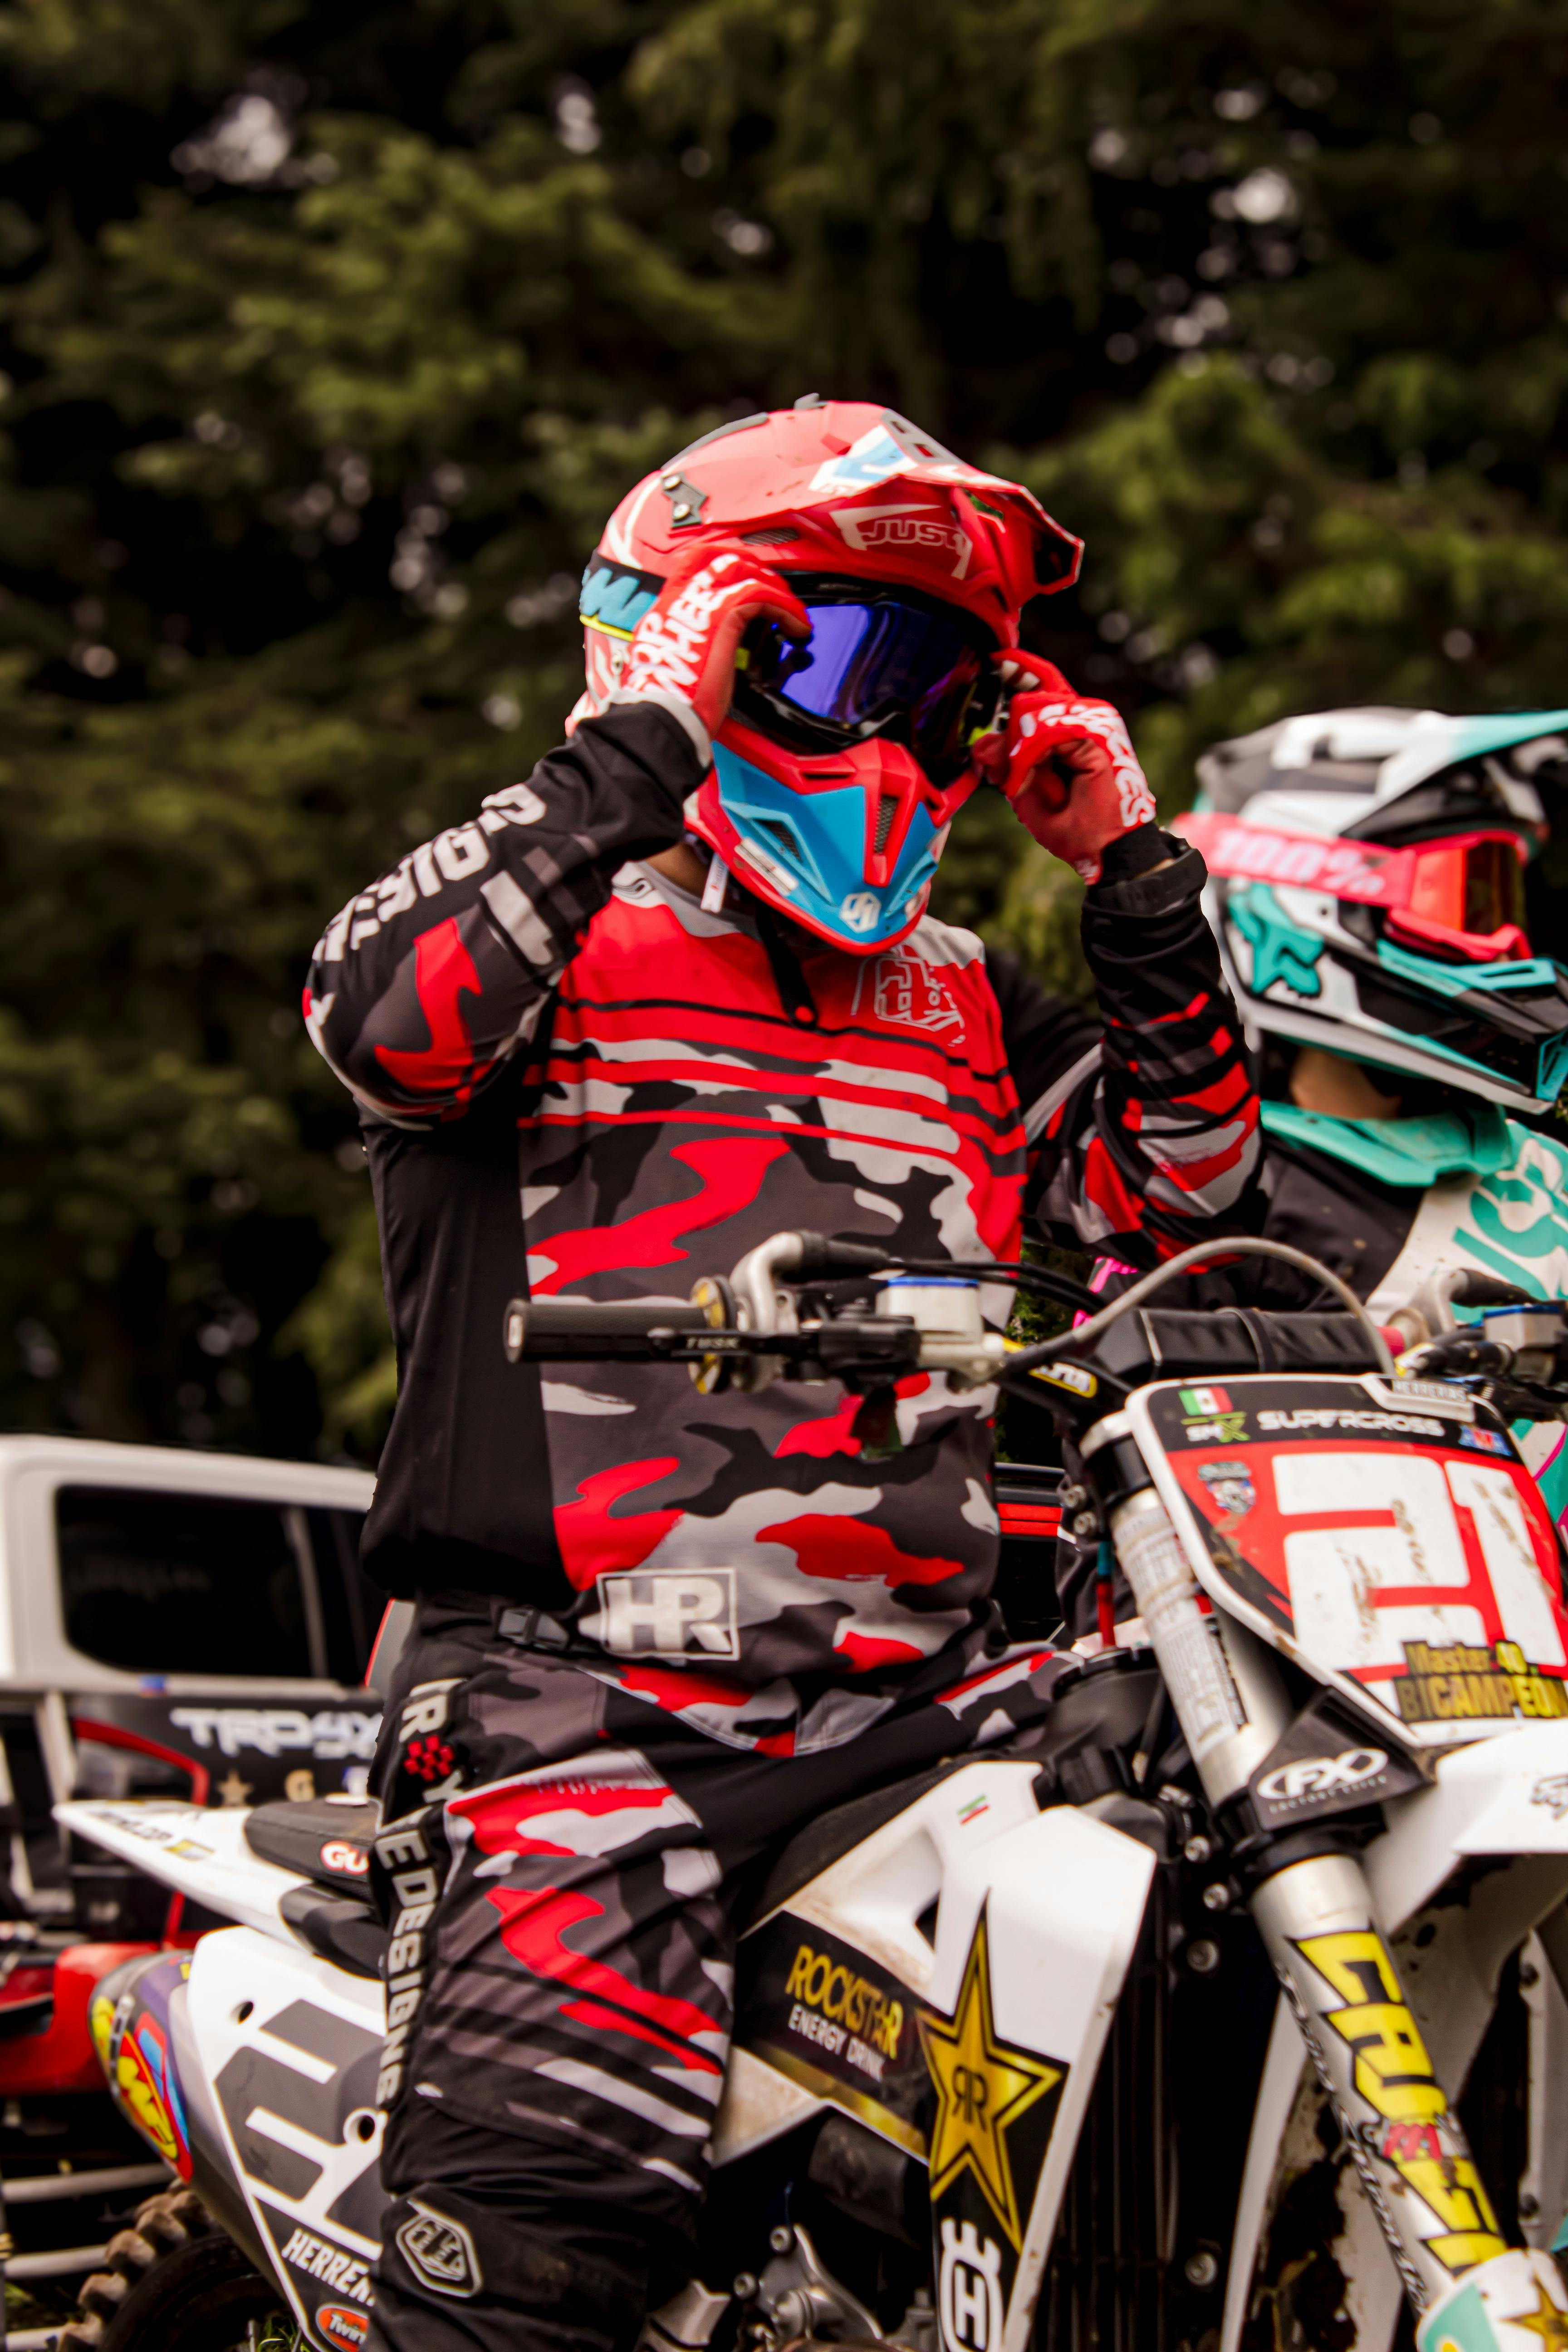capacete: (571, 401, 1092, 957), (1164, 700, 1568, 1106)
